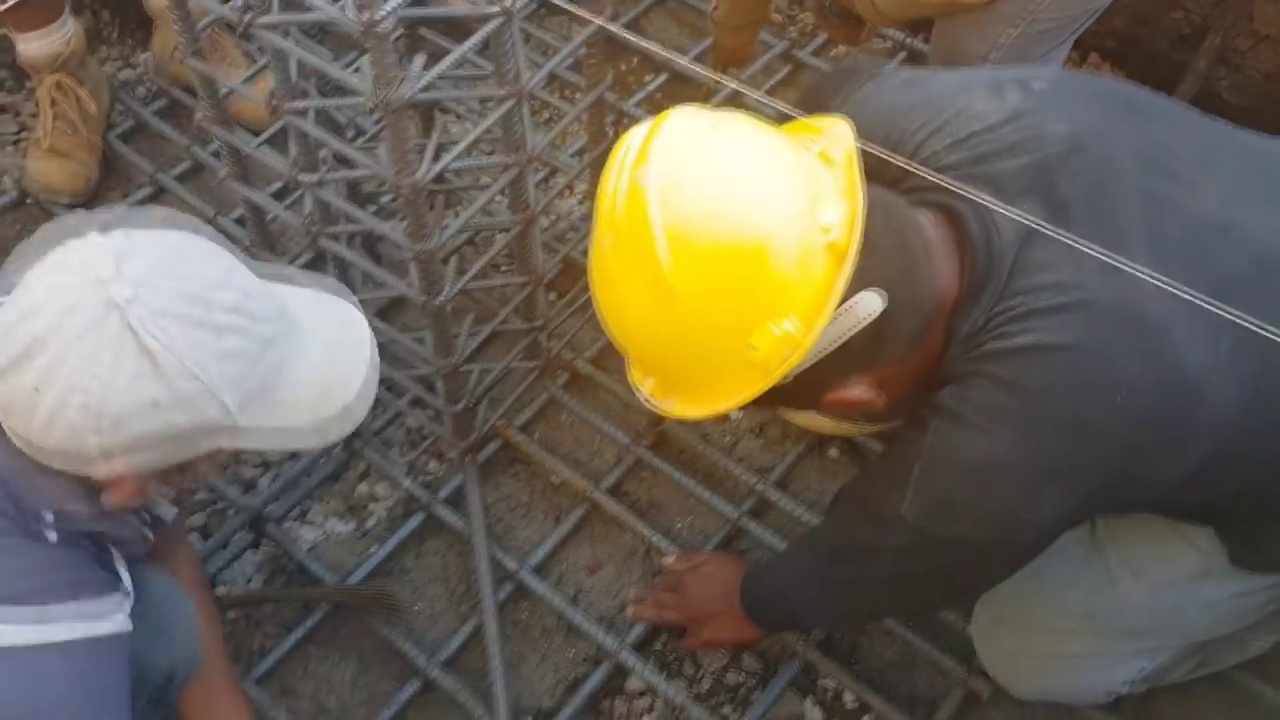helmet: (578, 108, 894, 434)
helmet-off: (0, 234, 348, 551)
helmet-on: (578, 108, 980, 444)
person: (571, 107, 1226, 720), (7, 202, 398, 716)
